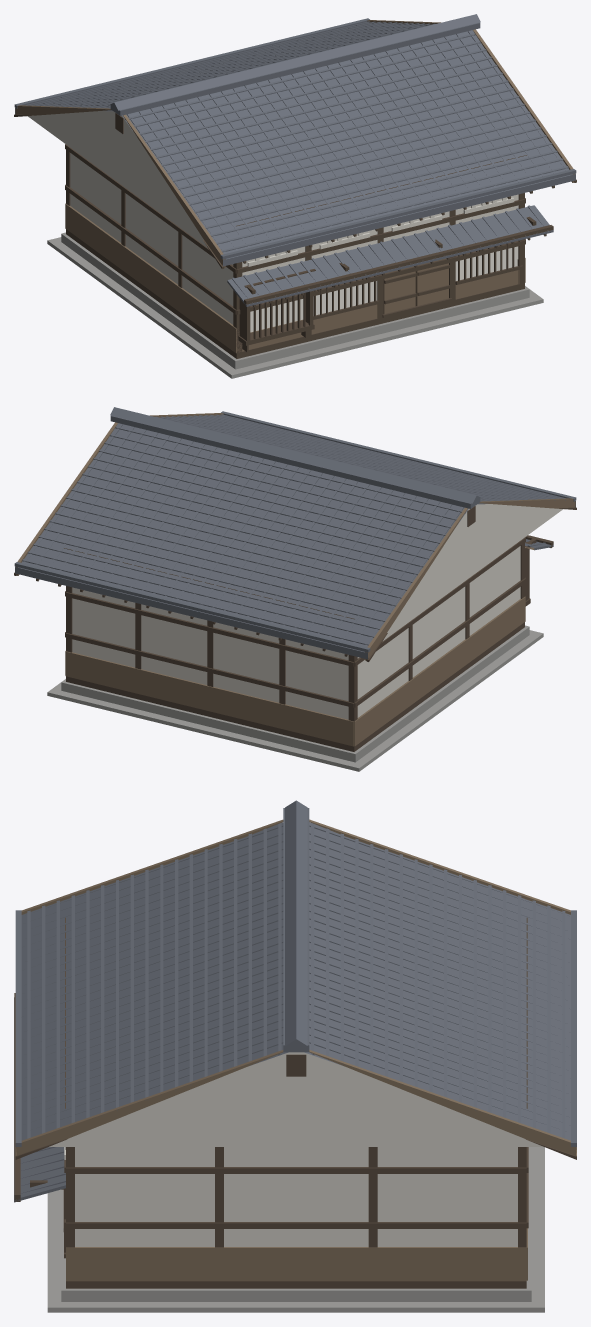
Rendered from machiya_f_a.glb.
3 views of the same model, one above another, from view 1: azimuth 30°, elevation 25°; view 2: azimuth 150°, elevation 25°; view 3: azimuth 270°, elevation 25° (orthographic). The views are drawn at different scales.
Parts seen in each view (by area): view 1: machiya_f_a; view 2: machiya_f_a; view 3: machiya_f_a.
Boxes of the visible parts, x1,y1,x2,y2 form: machiya_f_a: [14, 14, 576, 378]; machiya_f_a: [14, 407, 576, 771]; machiya_f_a: [14, 800, 576, 1312].
Size of the model in its own units: 9.56 by 5.42 by 9.53.
